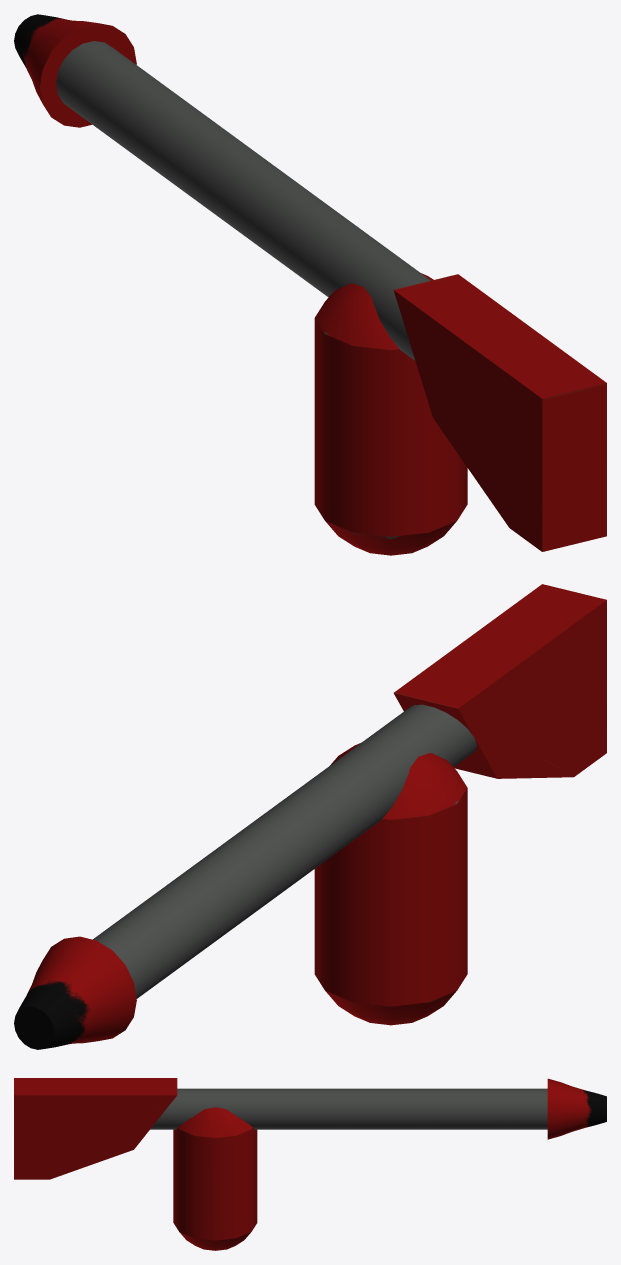
The model's file is Flamethrower.FBX.
3 views of the same model, one above another, from view 1: azimuth 30°, elevation 25°; view 2: azimuth 150°, elevation 25°; view 3: azimuth 270°, elevation 25° (orthographic). The views are drawn at different scales.
Parts seen in each view (by area): view 1: Box001; view 2: Box001; view 3: Box001.
Boxes of the visible parts, box(x1,y1,x2,y2) form: Box001: box(14, 14, 606, 555); Box001: box(14, 584, 606, 1049); Box001: box(14, 1078, 606, 1250).
Bounding box in the file's own units: 20.46 × 44.62 × 145.
Materials: 1 (1 with a texture image).
